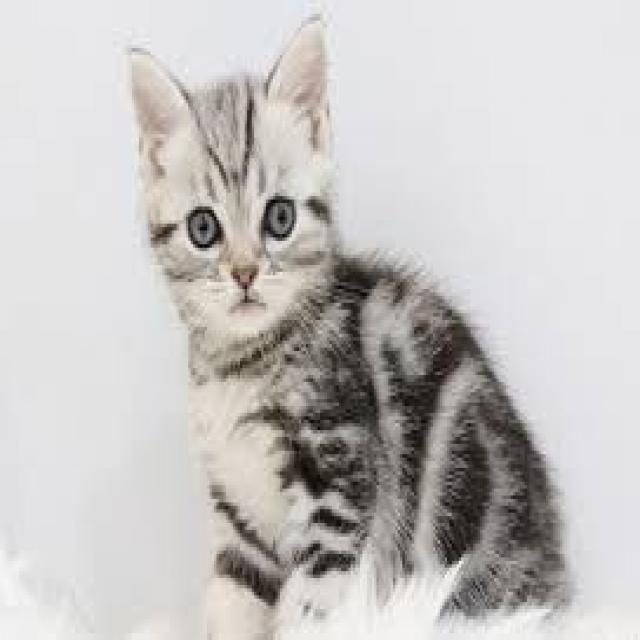cat-face: (107, 54, 414, 410)
